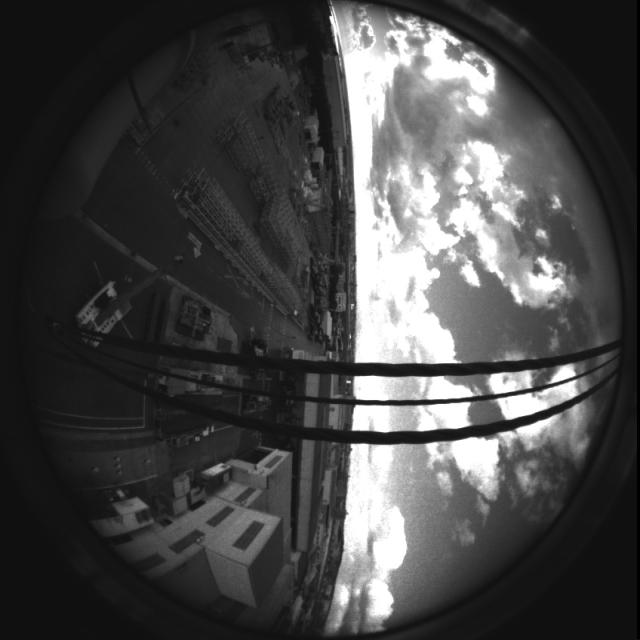rope: (19, 297, 633, 450)
sky: (321, 5, 623, 638)
